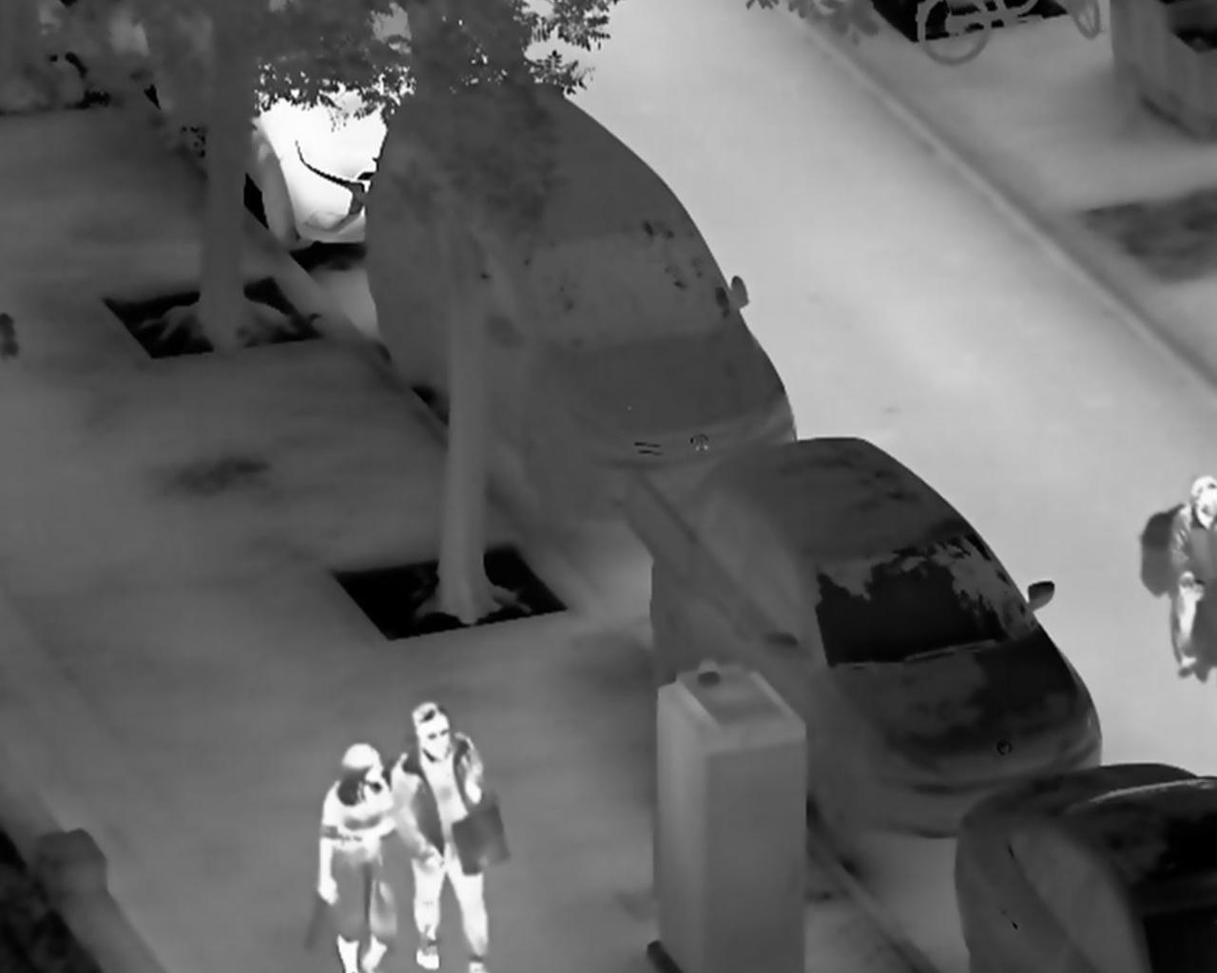person: (386, 701, 510, 973), (300, 741, 399, 973), (1161, 468, 1212, 682)
